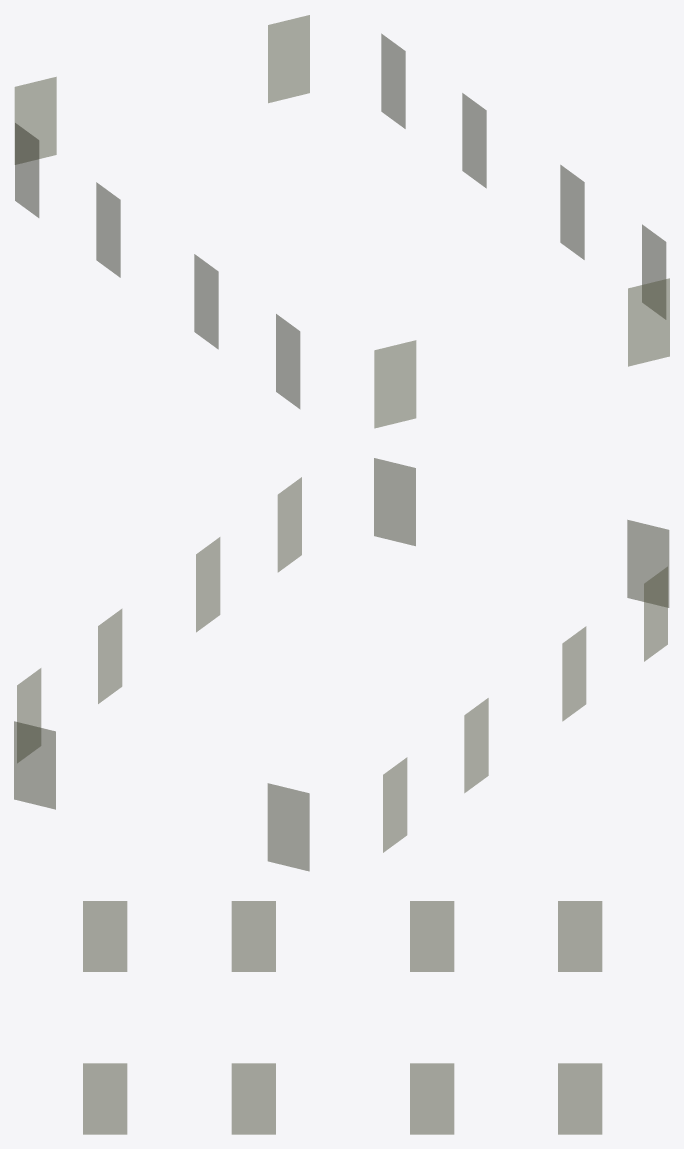
The model's file is SM_Bld_Barracks_Glass_01.glb.
The picture shows the model from 3 angles, top to bottom: view 1: azimuth 30°, elevation 25°; view 2: azimuth 150°, elevation 25°; view 3: azimuth 270°, elevation 25°; orthographic projection. The views are drawn at different scales.
Visible parts, largest first — view 1: SM_Bld_Barracks_Glass_01; view 2: SM_Bld_Barracks_Glass_01; view 3: SM_Bld_Barracks_Glass_01.
Boxes of the visible parts, <box> form: SM_Bld_Barracks_Glass_01: <box>14,15,669,428</box>; SM_Bld_Barracks_Glass_01: <box>14,458,669,871</box>; SM_Bld_Barracks_Glass_01: <box>83,901,602,1134</box>.
Size of the model in its own units: 6.88 by 1.4 by 11.7.
Materials: 1 (1 with a texture image).
